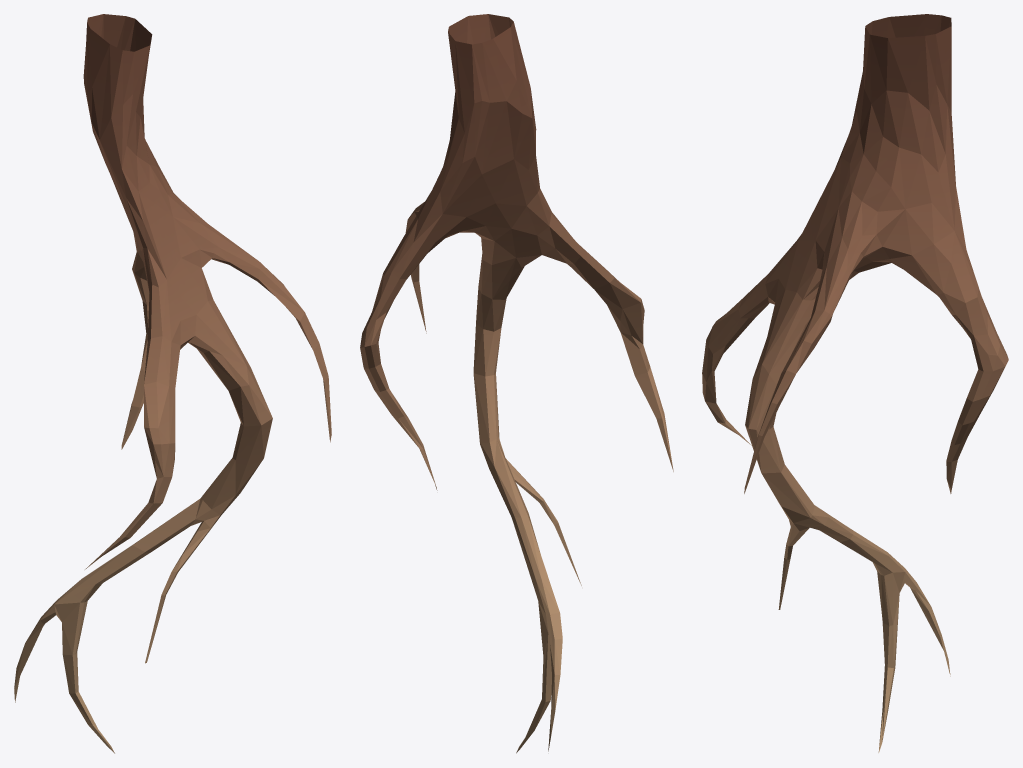
The model's file is Cavern_Root-03.fbx.
3 views of the same model, side by side, from view 1: azimuth 30°, elevation 25°; view 2: azimuth 150°, elevation 25°; view 3: azimuth 270°, elevation 25° (orthographic). The views are drawn at different scales.
Parts seen in each view (by area): view 1: Cavern_Root-03; view 2: Cavern_Root-03; view 3: Cavern_Root-03.
Boxes of the visible parts, x1,y1,x2,y2 form: Cavern_Root-03: [14, 14, 331, 753]; Cavern_Root-03: [360, 14, 673, 753]; Cavern_Root-03: [702, 14, 1008, 752].
Bounding box in the file's own units: 293 × 798 × 300.
Materials: 1 (1 with a texture image).
